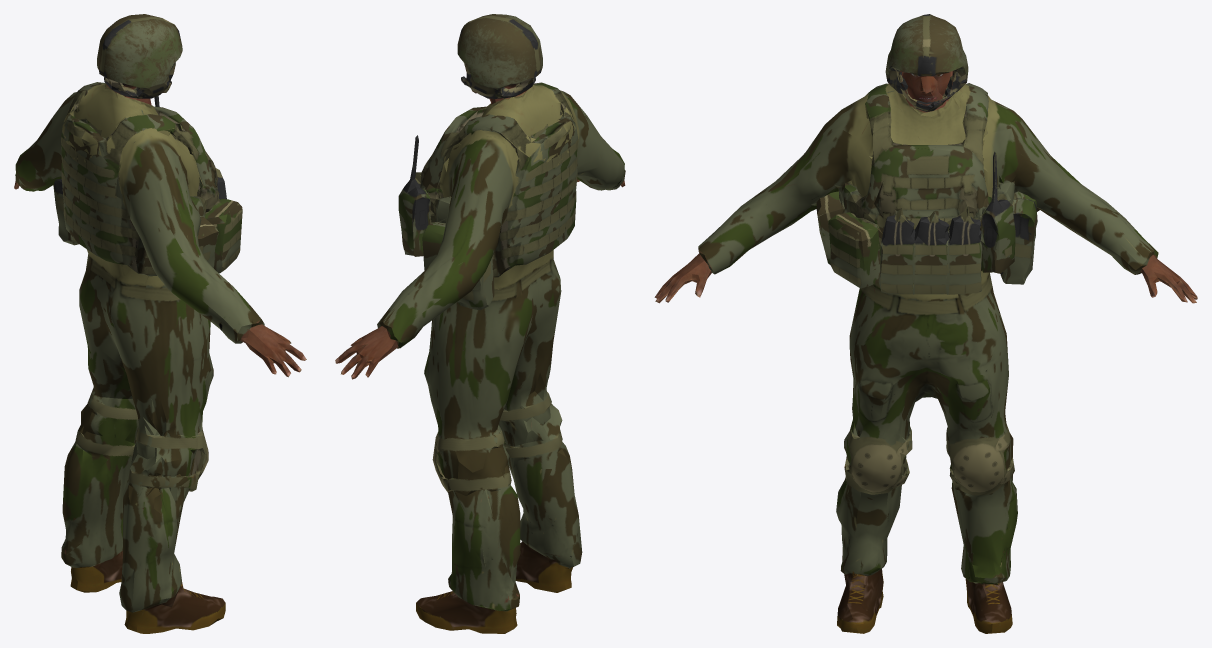
File: con_rifles.glb
3 renders of one model, left to right at view 1: azimuth 30°, elevation 25°; view 2: azimuth 150°, elevation 25°; view 3: azimuth 270°, elevation 25°, orthographic.
Visible parts, largest first — view 1: body; view 2: body; view 3: body.
Part boxes in pixels (x1,y1,x2,y2): body: [14, 14, 306, 633]; body: [335, 14, 625, 633]; body: [654, 14, 1197, 633].
Bounding box in the file's own units: 4.64 × 19 × 15.73.
Materials: 1 (1 with a texture image).
